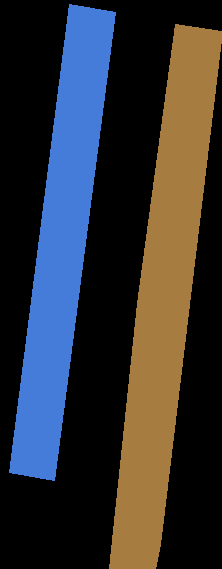parkingspot: (109, 24, 222, 569), (9, 4, 115, 480)
